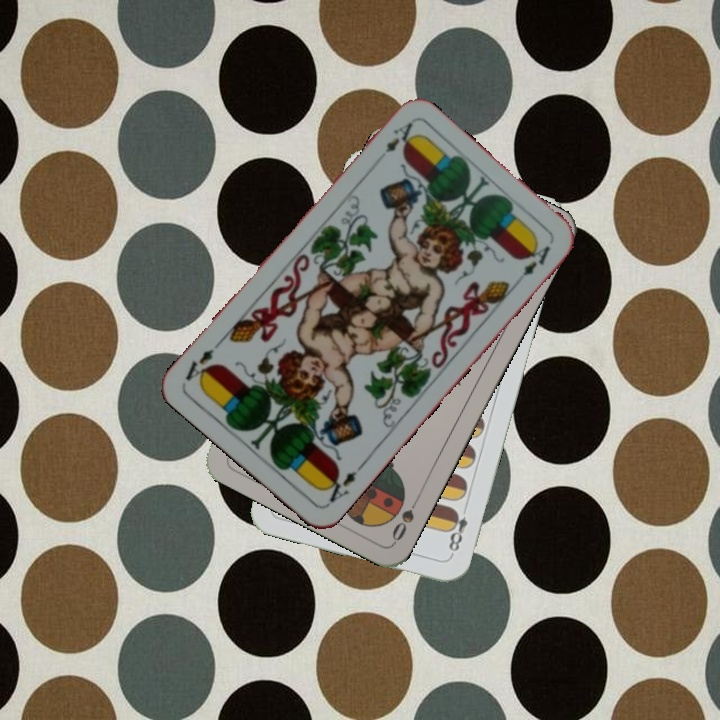E8: (444, 505, 470, 558)
EA: (319, 459, 367, 508), (381, 118, 416, 156)
SO: (388, 490, 424, 545)
